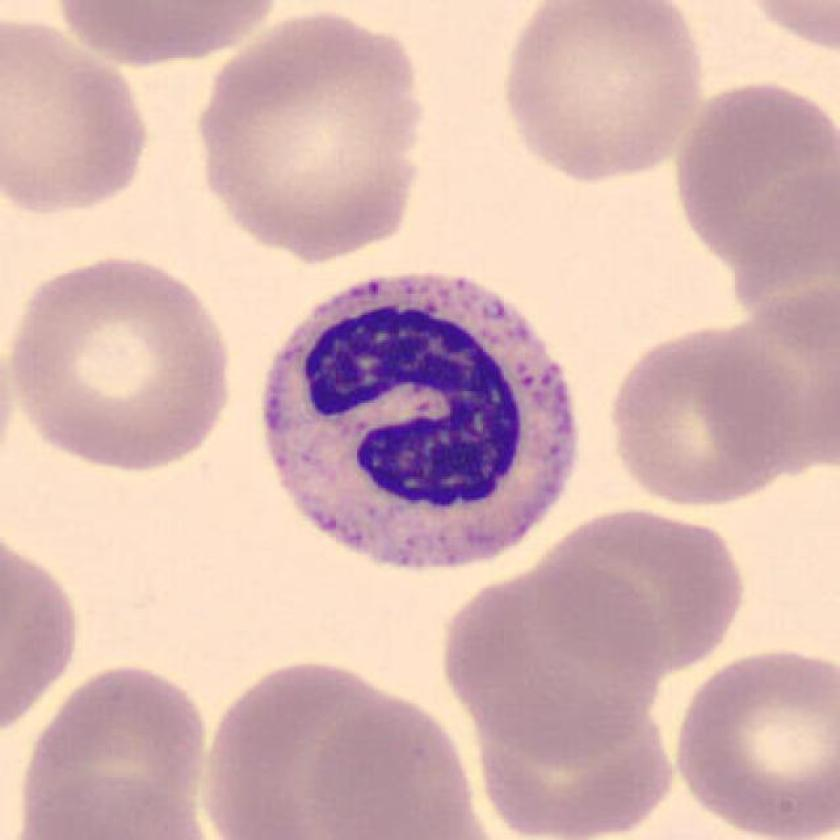neutrophil: (265, 278, 575, 563)
